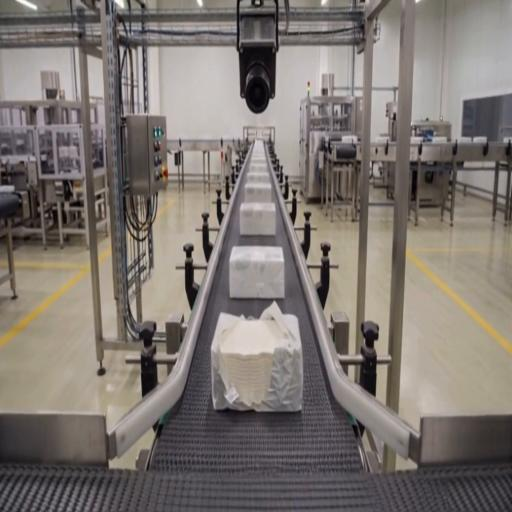defective: (211, 305, 302, 413)
good: (229, 245, 285, 301), (238, 201, 278, 239), (243, 182, 272, 204), (247, 158, 270, 174), (248, 144, 268, 158), (251, 138, 267, 148)
